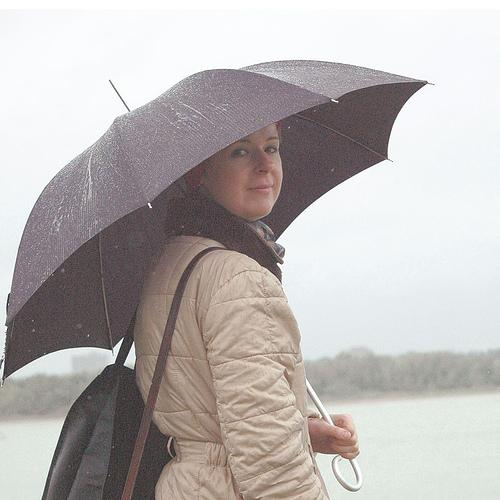person: (134, 120, 361, 500)
